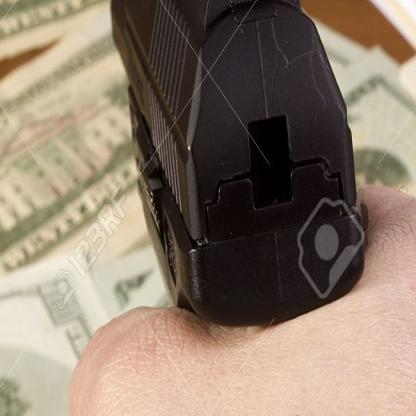gun: (107, 0, 369, 340)
